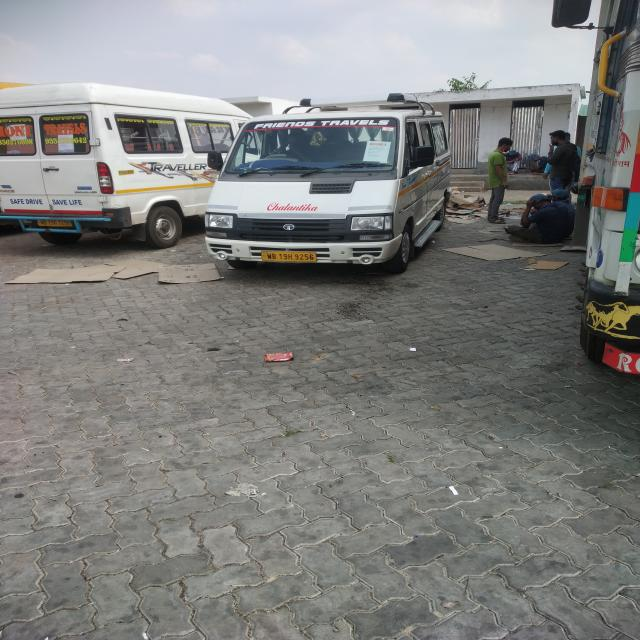Traveller: (0, 82, 250, 248)
Truck: (580, 0, 640, 371)
